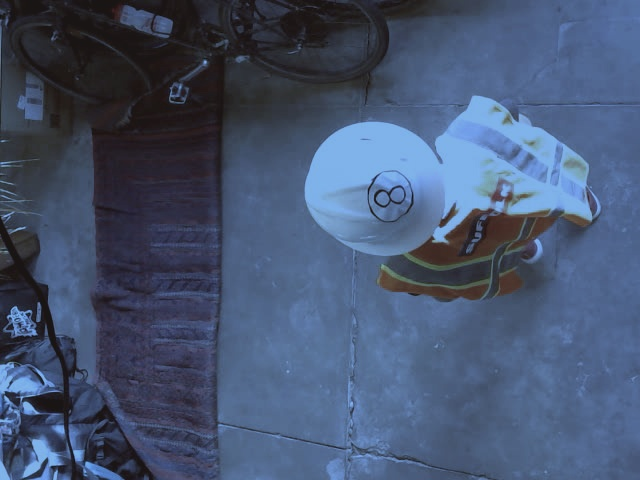eight: (366, 170, 413, 222)
